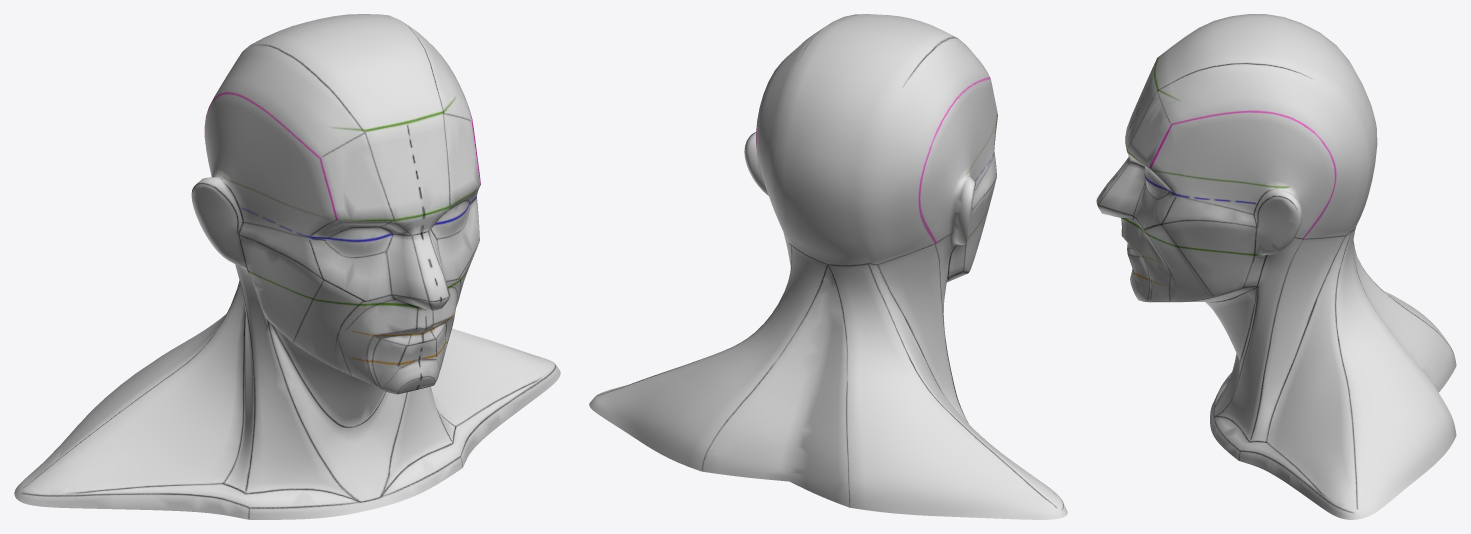
File: 头部分面体__opt_std.glb
3 views of the same model, side by side, from view 1: azimuth 30°, elevation 25°; view 2: azimuth 150°, elevation 25°; view 3: azimuth 270°, elevation 25° (orthographic). The views are drawn at different scales.
Parts seen in each view (by area): view 1: Helmet_5_LowPoGood; view 2: Helmet_5_LowPoGood; view 3: Helmet_5_LowPoGood.
Boxes of the visible parts, box(x1,y1,x2,y2) form: Helmet_5_LowPoGood: box(14, 14, 560, 519); Helmet_5_LowPoGood: box(589, 14, 1067, 519); Helmet_5_LowPoGood: box(1096, 14, 1456, 519).
Bounding box in the file's own units: 0.4922 × 0.4 × 0.3369.
2 materials, 1 textured.
